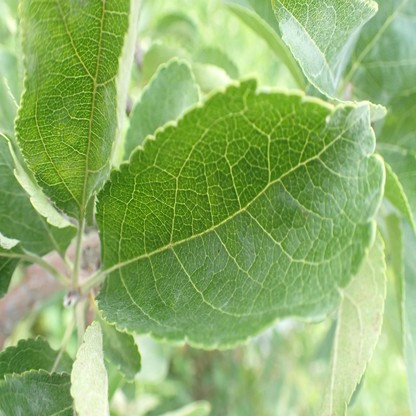powdery_mildew: (105, 106, 374, 352), (15, 1, 129, 216), (1, 372, 72, 416), (281, 20, 323, 67)
